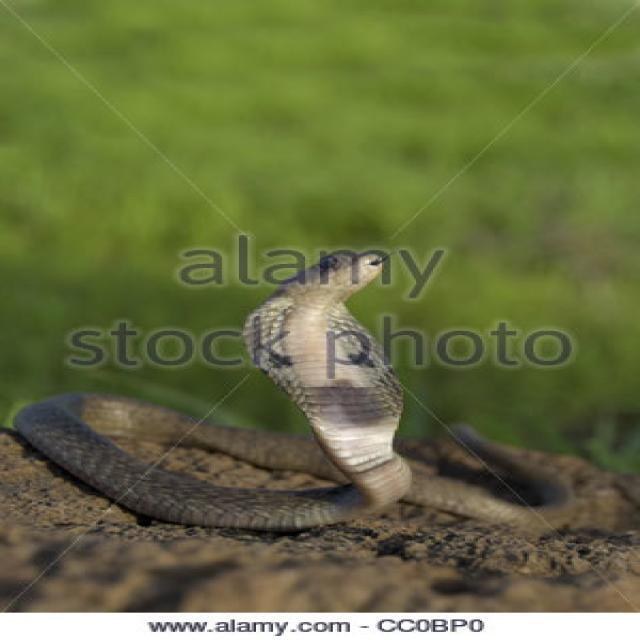Snake: (9, 248, 582, 538)
